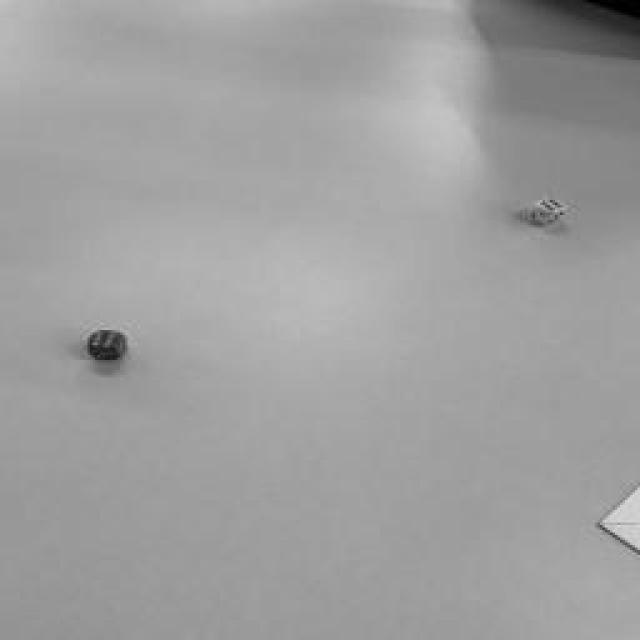dice_6: (89, 331, 119, 349), (537, 198, 565, 212)
